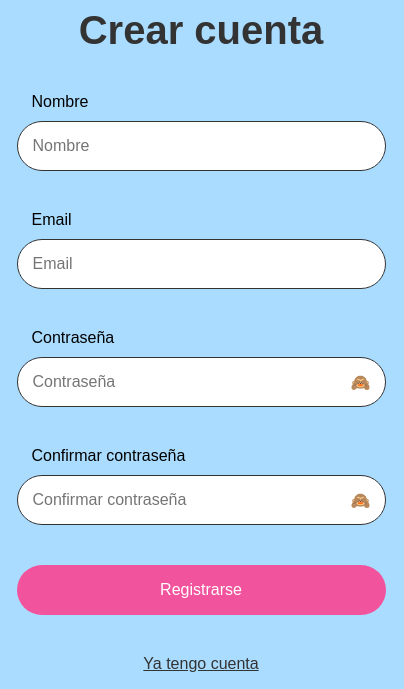
it: Auth - Register › passwords que no coinciden muestra error
Type "test" into the field with test id "register-name" at x=202, y=146, box [17,121,386,171]
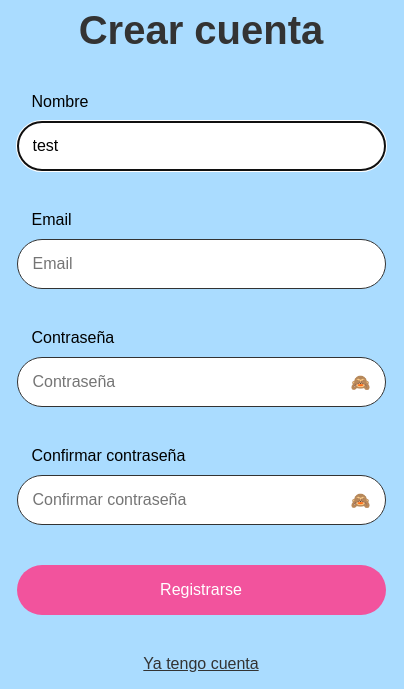
Type "ok@mail.com" into the field with test id "register-email" at x=202, y=264, box [17,239,386,289]
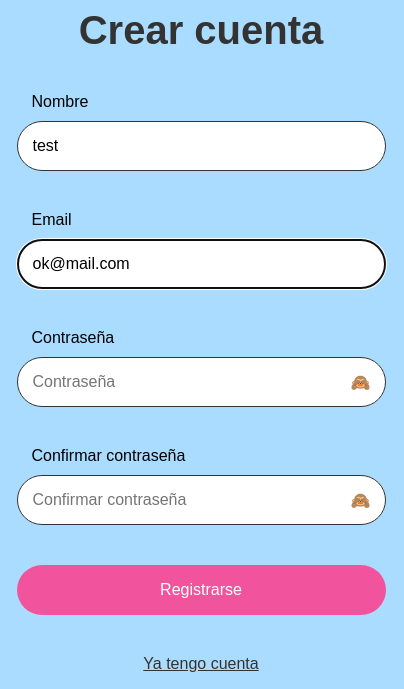
Type "12345678" into the password field with test id "register-password" at x=202, y=382, box [17,357,386,407]
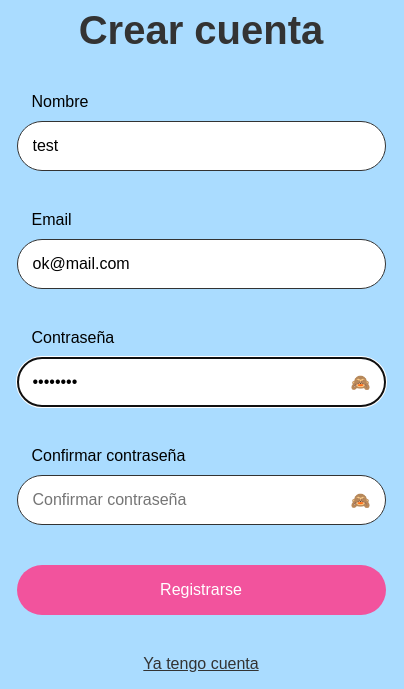
Type "12345679" into the password field with test id "register-password2" at x=202, y=500, box [17,475,386,525]
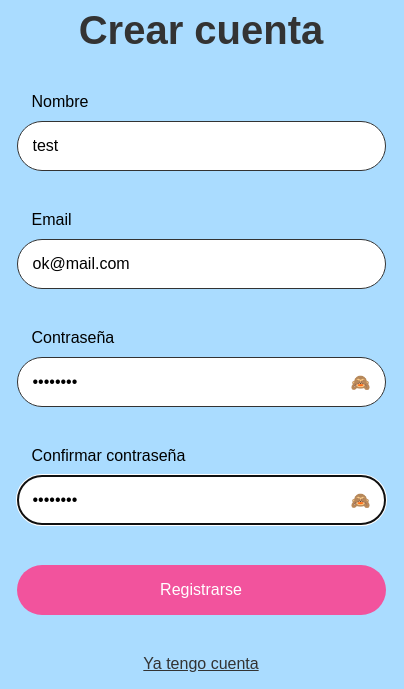
Click the button with test id "register-submit" at x=202, y=590, box [17,565,386,615]
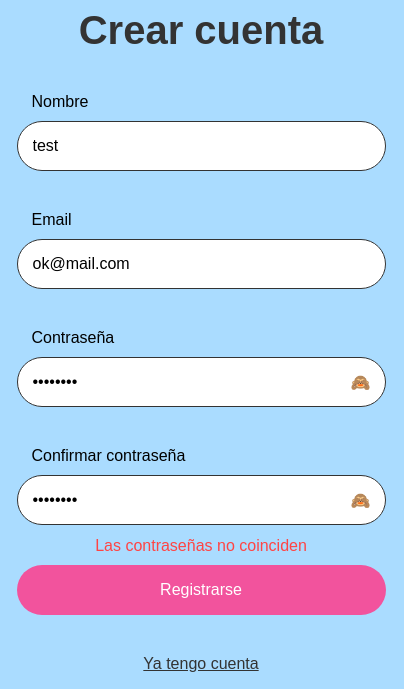
Check: the text with test id "register-error-pwd2" reads "Las contraseñas no coinciden", box [95,537,307,554]
